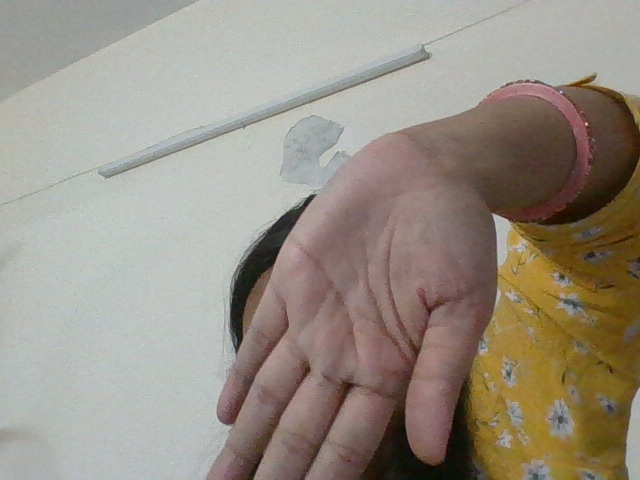forward: (157, 130, 531, 478)
